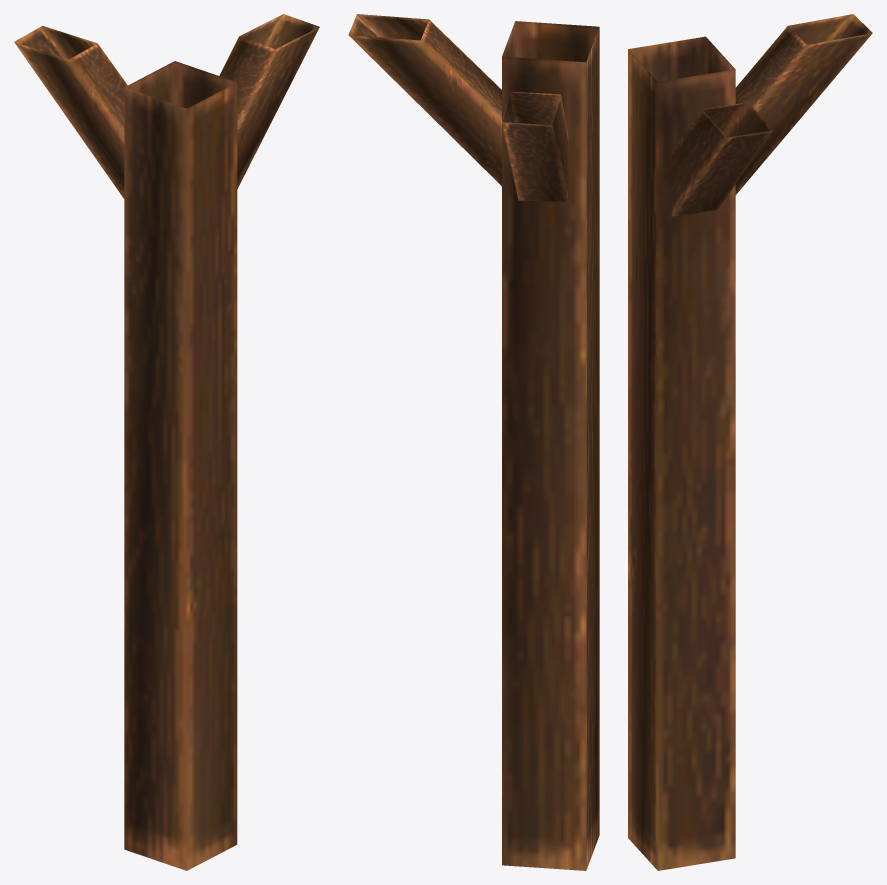
Rendered from SWORDLIGHT20_JAILPLATSUPPORT67.fbx.
The picture shows the model from 3 angles, left to right: view 1: azimuth 30°, elevation 25°; view 2: azimuth 150°, elevation 25°; view 3: azimuth 270°, elevation 25°; orthographic projection. The views are drawn at different scales.
Parts seen in each view (by area): view 1: SWORDLIGHT20_JAILPLATSUPPORT67; view 2: SWORDLIGHT20_JAILPLATSUPPORT67; view 3: SWORDLIGHT20_JAILPLATSUPPORT67.
Boxes of the visible parts, bbox=[...] form: SWORDLIGHT20_JAILPLATSUPPORT67: bbox=[14, 14, 319, 870]; SWORDLIGHT20_JAILPLATSUPPORT67: bbox=[348, 14, 599, 870]; SWORDLIGHT20_JAILPLATSUPPORT67: bbox=[628, 14, 872, 870].
Bounding box in the file's own units: 14060 × 41980 × 11759.
1 material, 1 textured.
